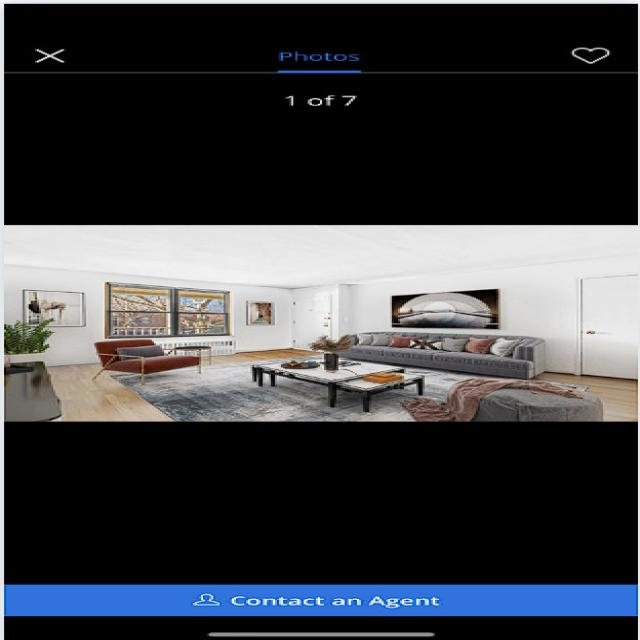button: (6, 582, 640, 620)
icon button: (21, 36, 97, 78), (548, 34, 636, 70)
image: (0, 222, 640, 420)
